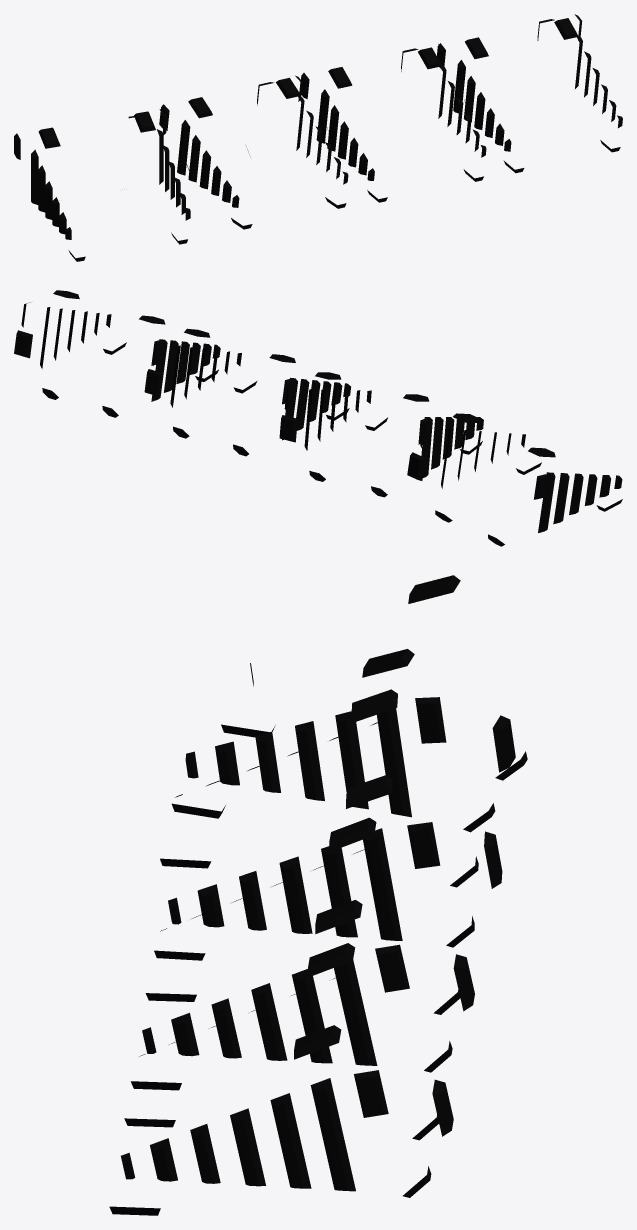
The model's file is prop_static_tan_container_01_11_0.glb.
3 renders of one model, top to bottom at view 1: azimuth 30°, elevation 25°; view 2: azimuth 150°, elevation 25°; view 3: azimuth 270°, elevation 25°, orthographic. The views are drawn at different scales.
Parts seen in each view (by area): view 1: tan_container_01_11_LOD0; view 2: tan_container_01_11_LOD0; view 3: tan_container_01_11_LOD0.
Part boxes in pixels (<box>): tan_container_01_11_LOD0: <box>14,14,622,261</box>; tan_container_01_11_LOD0: <box>14,290,622,546</box>; tan_container_01_11_LOD0: <box>109,575,527,1215</box>.
Size of what is drawn, in the model's own units: 8.57 by 1.51 by 2.85.
Materials: 1 (1 with a texture image).
